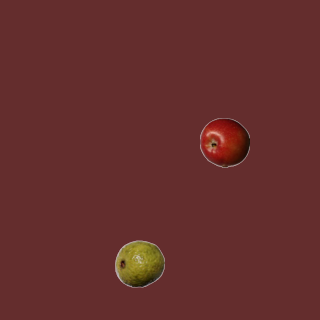Apple Braeburn: (199, 117, 249, 167)
Guava: (114, 238, 164, 288)
